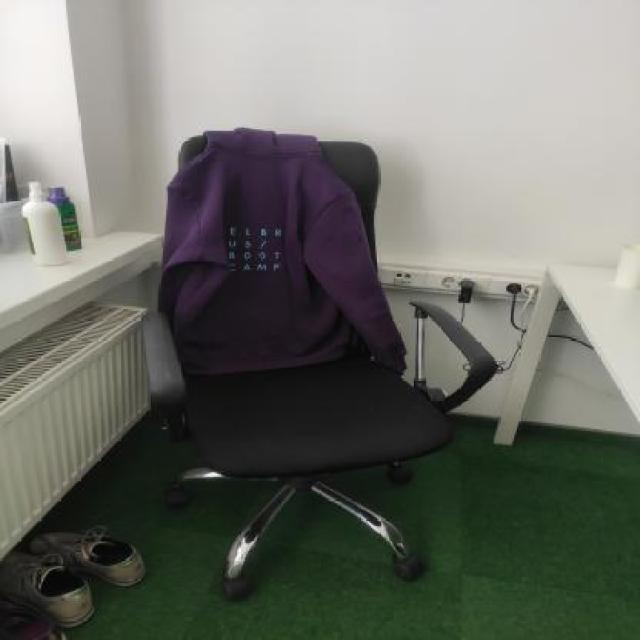chair: (122, 117, 507, 597)
